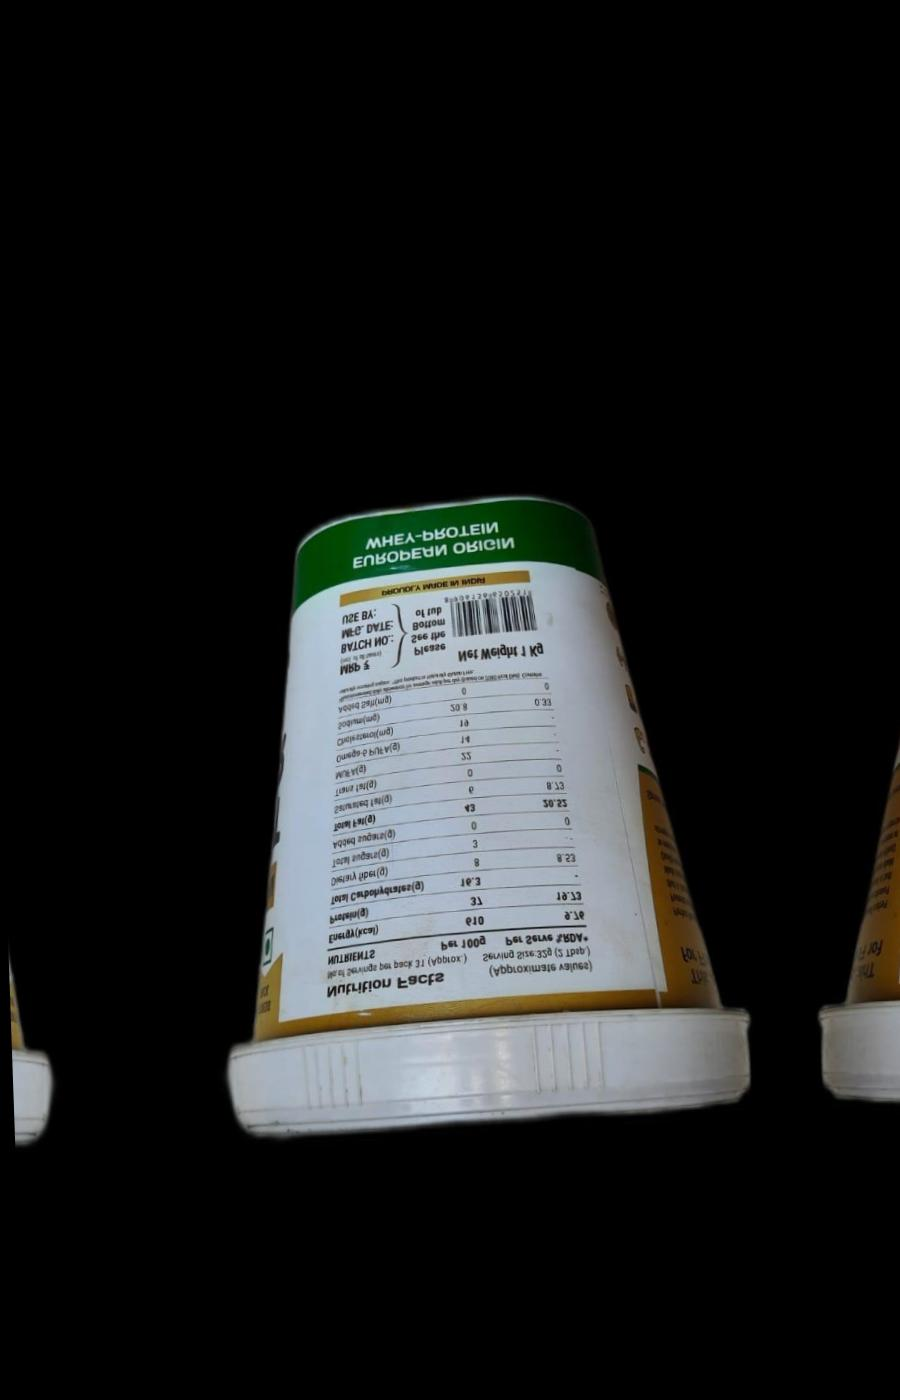Pintola High Protein Peanut Butter-510 gm-: (183, 490, 755, 1151)
